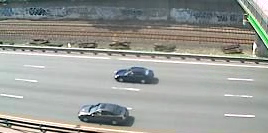car: (76, 101, 134, 126), (113, 65, 158, 86)
